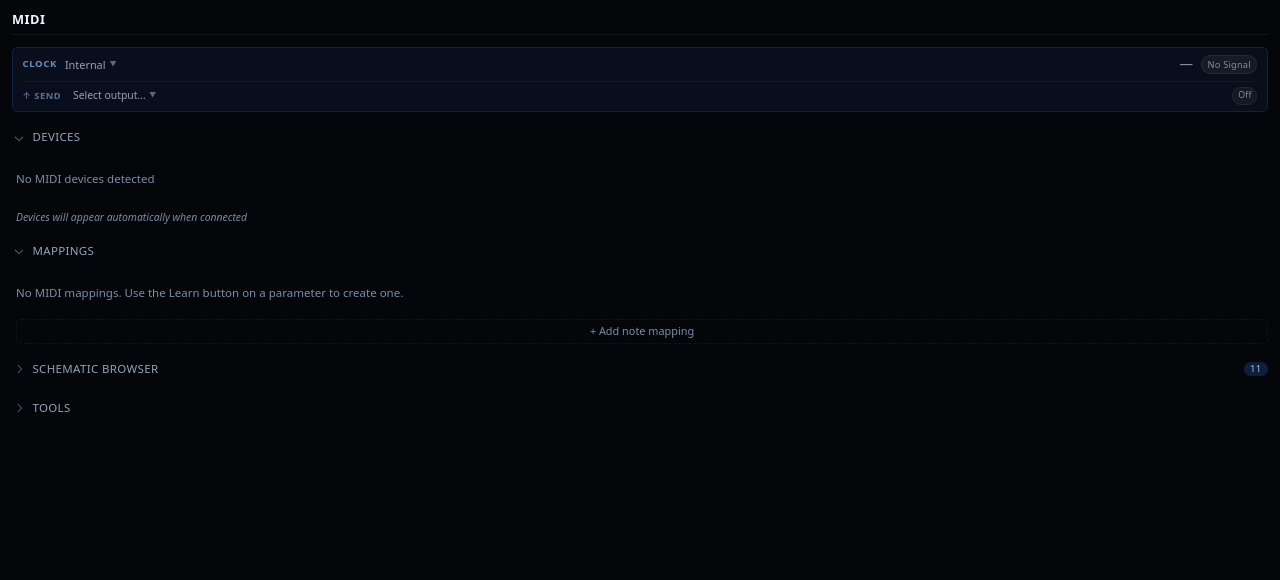
Test: MidiPanel › add note mapping form › closes form on cancel
The image size is (1280, 580).
Click the button "+ Add note mapping".
click(642, 331)  # box [16,319,1268,344]
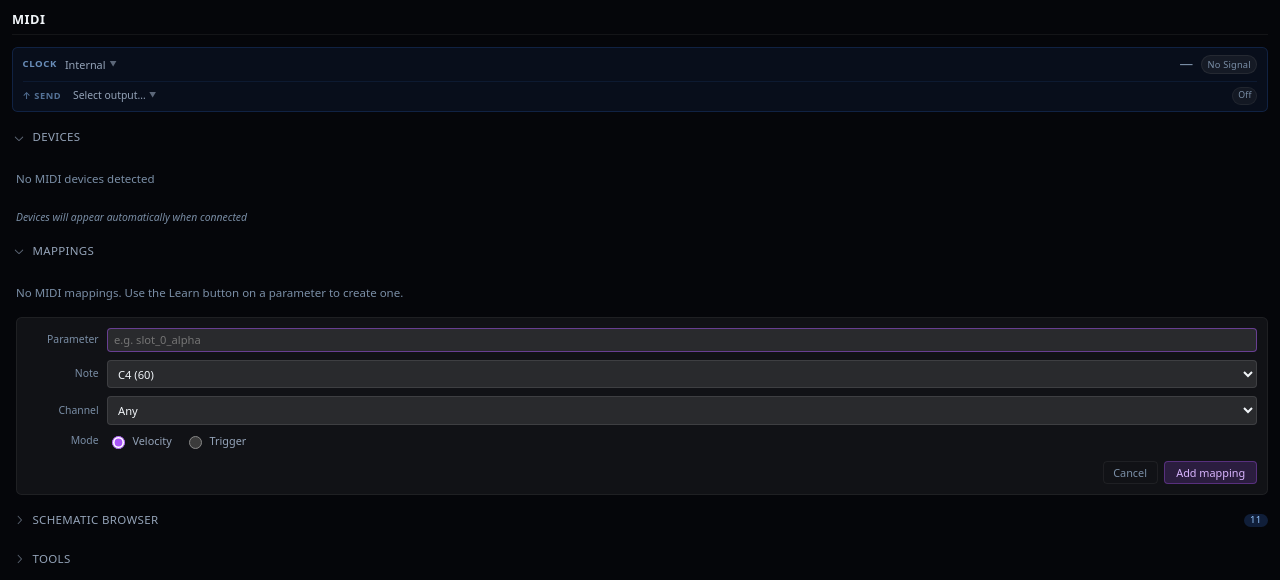
Click the button "Cancel".
click(1130, 473)  # box [1103,461,1158,484]
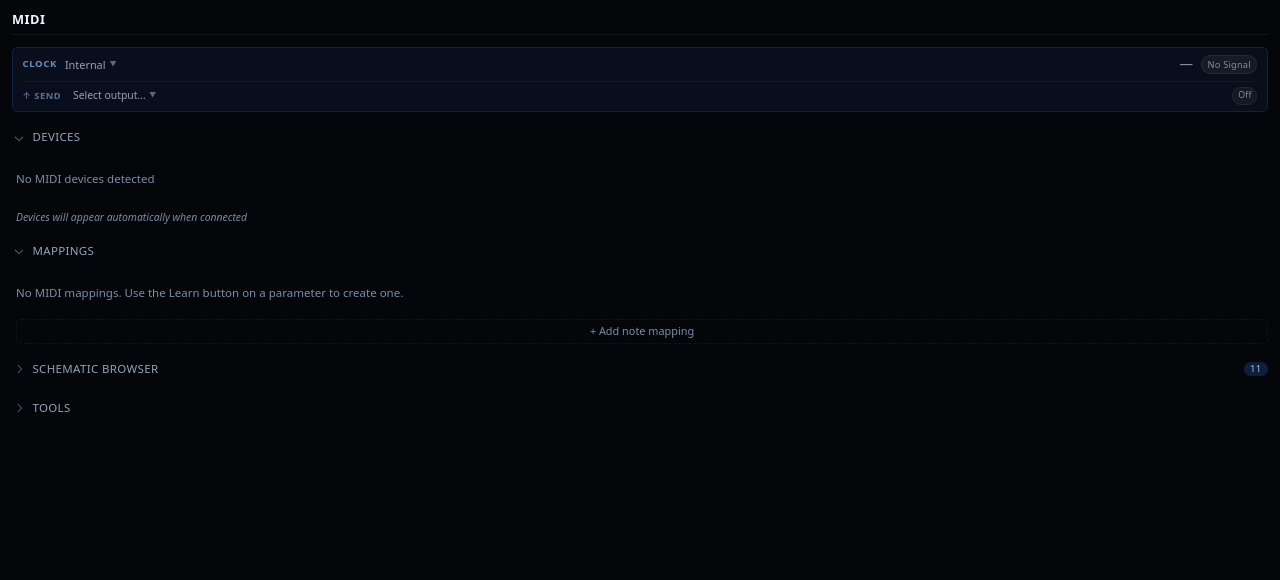
expect the button "+ Add note mapping" is shown: met, box [16,319,1268,344]
